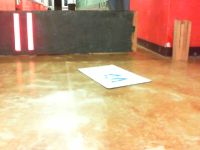switch: (13, 13, 21, 52), (27, 13, 34, 50)
